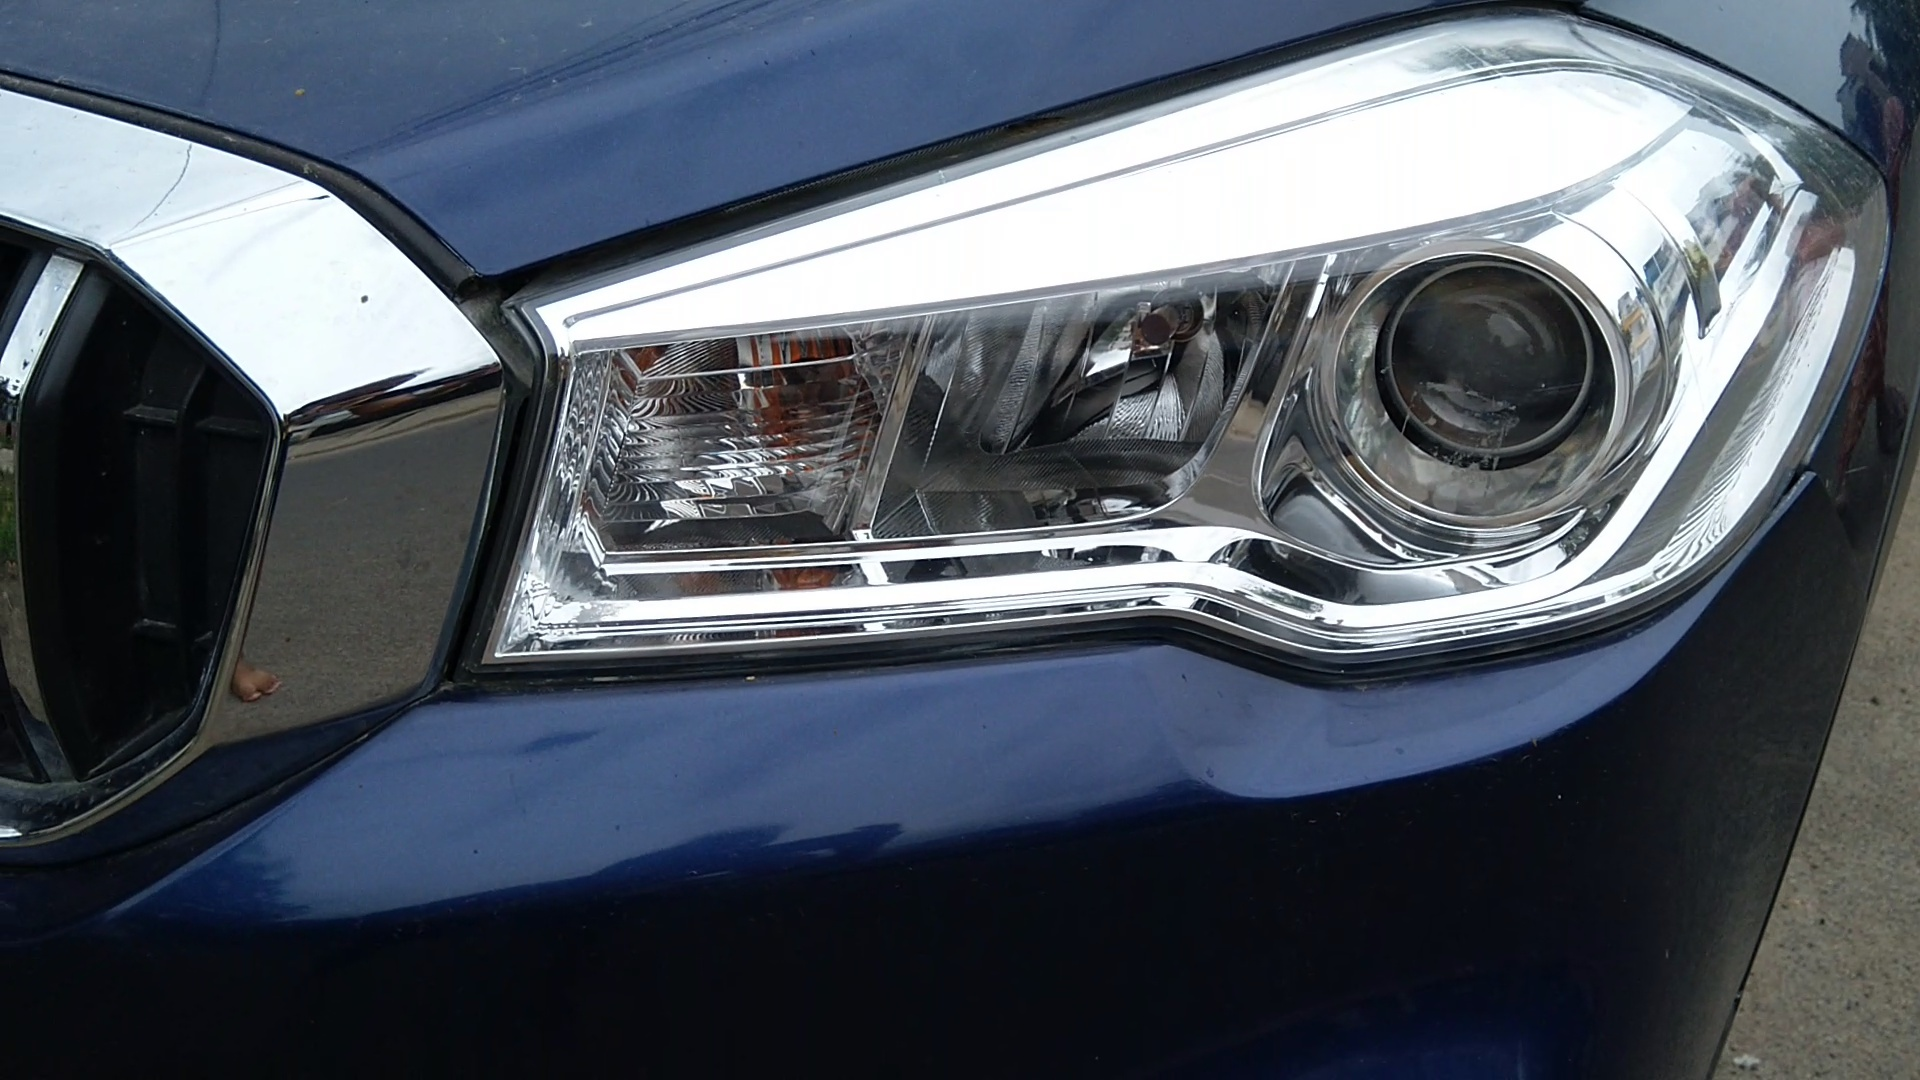headlamp: (444, 1, 1896, 804)
